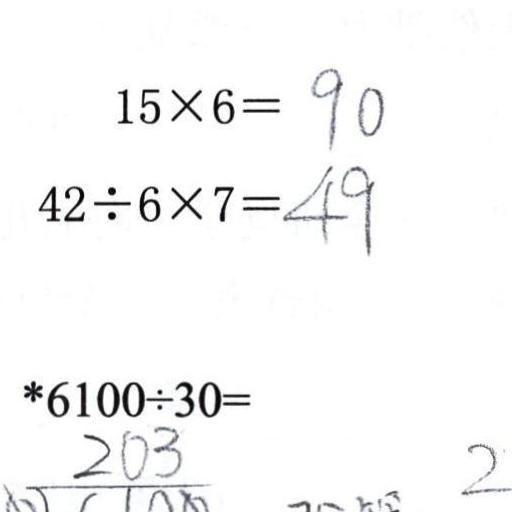ans: (279, 157, 376, 254), (306, 61, 384, 148)
